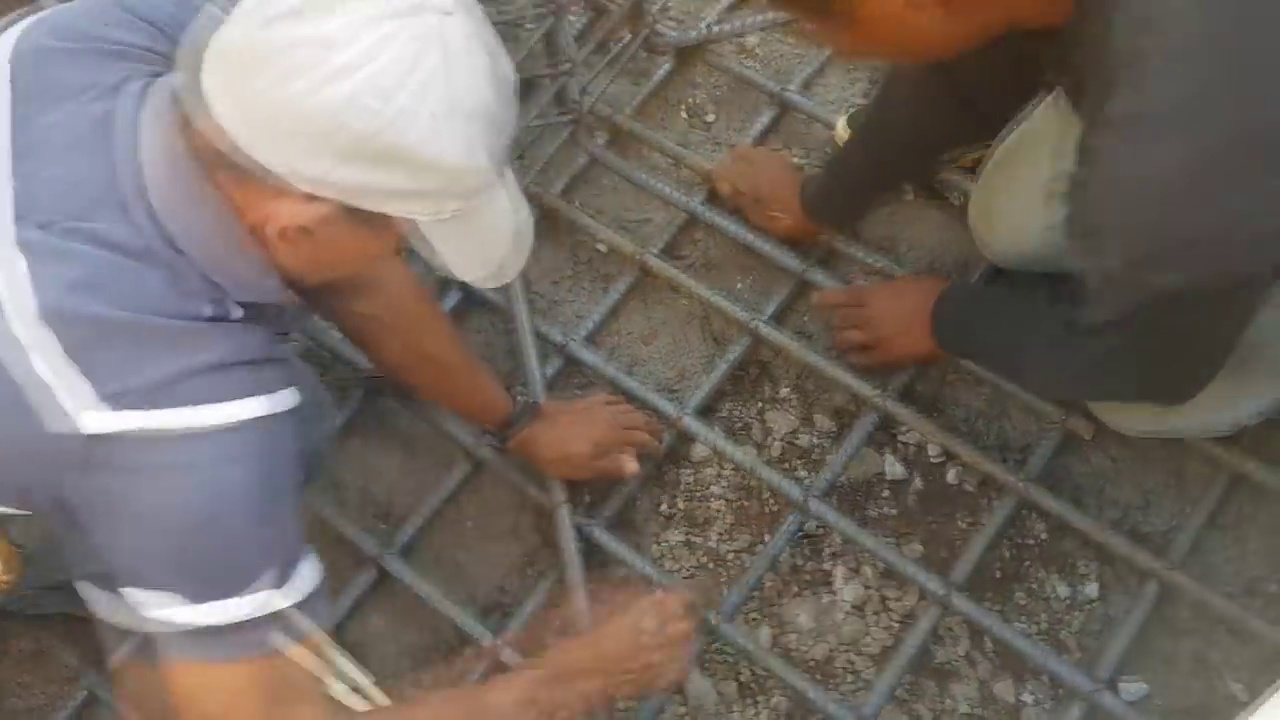helmet-off: (170, 10, 556, 289), (718, 0, 1103, 83)
person: (0, 4, 705, 719), (716, 0, 1280, 437)
